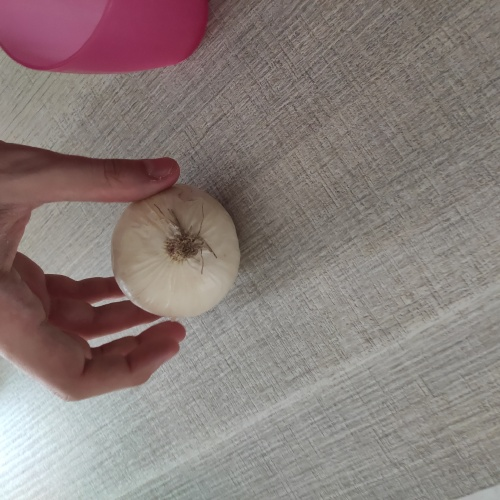cipolla: (106, 178, 248, 321)
